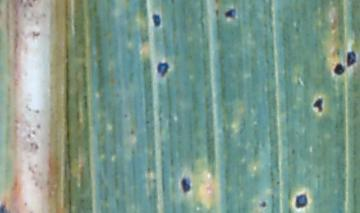tarspot: (312, 95, 324, 114), (157, 61, 169, 78), (180, 177, 192, 193), (295, 194, 307, 208), (224, 8, 237, 20), (333, 63, 345, 76), (152, 12, 161, 29), (347, 51, 356, 67), (1, 201, 8, 213), (260, 201, 267, 208)
